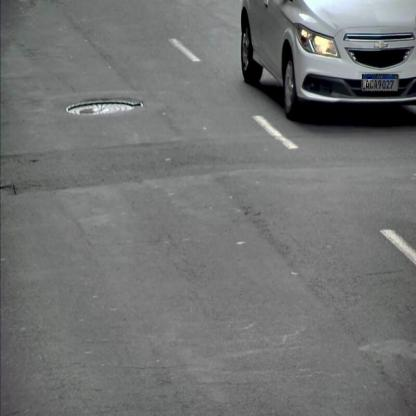PlacaM: (362, 74, 398, 92)
